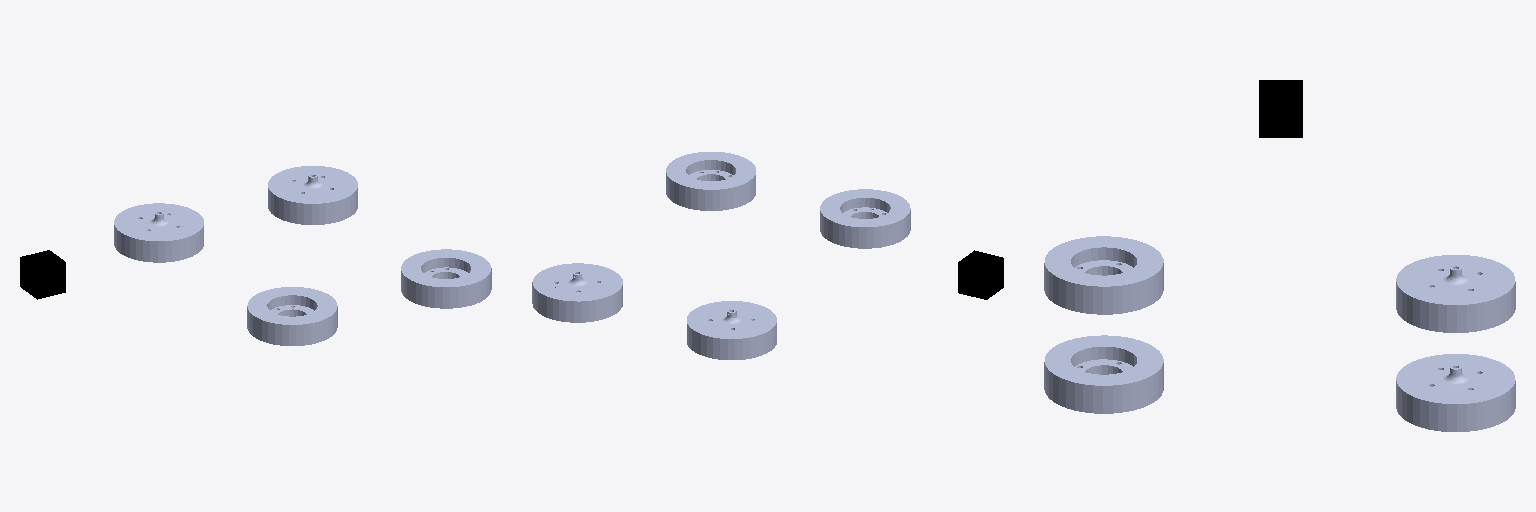
URDF robot description (fyp_robot):
<?xml version="1.0" encoding="utf-8"?>
<robot name="fyp_robot">

  <!-- Dummy root to avoid KDL "root link has inertia" warning -->
  <link name="base_footprint"/>

  <!-- +90° yaw: maps cmd_vel +X to robot's physical +Y (wheel axis is along X) -->
  <joint name="base_footprint_to_base_link" type="fixed">
    <parent link="base_footprint"/>
    <child link="base_link"/>
    <origin xyz="0 0 0" rpy="0 0 1.5708"/>
  </joint>

  <!-- ===================== -->
  <!-- CHASSIS (base_link)   -->
  <!-- ===================== -->
  <link name="base_link">
    <!-- IMPORTANT: Center COM close to the chassis center to prevent tipping -->
    <inertial>
      <origin xyz="0.0 0.0 0.10" rpy="0 0 0"/>
      <mass value="5.3118"/>
      <inertia ixx="0.10" ixy="0.0" ixz="0.0"
               iyy="0.10" iyz="0.0"
               izz="0.15"/>
    </inertial>

    <!-- Visual keeps your STL -->
    <visual>
      <origin xyz="0 0 0" rpy="0 0 0"/>
      <geometry>
        <mesh filename="package://fyp_description/meshes/base_link.STL"/>
      </geometry>
      <material name="base_gray">
        <color rgba="0.75294 0.75294 0.75294 1"/>
      </material>
    </visual>

    <!-- Collision uses a simple box (stable + fast) -->
    <collision>
      <!-- Adjust xyz/size to match your chassis dimensions -->
      <origin xyz="0 0 0.1475" rpy="0 0 0"/>
      <geometry>
        <box size="0.45 0.32 0.16"/>
      </geometry>
    </collision>
  </link>

  <!-- ===================== -->
  <!-- WHEELS (4)            -->
  <!-- ===================== -->

  <link name="Front_Left_Wheel">
    <inertial>
      <origin xyz="2.31233851510915E-11 -2.85785128575911E-07 0.0160218012444127" rpy="0 0 0"/>
      <mass value="0.407917904048073"/>
      <inertia ixx="0.000577300644358977" ixy="-5.22853787175703E-14" ixz="9.40890624968697E-14"
               iyy="0.000578042343322791" iyz="-1.60915152131612E-09" izz="0.00108187291864029"/>
    </inertial>

    <visual>
      <origin xyz="0 0 0" rpy="0 0 0"/>
      <geometry>
        <mesh filename="package://fyp_description/meshes/Front_Left_Wheel.STL"/>
      </geometry>
      <material name="wheel_blue">
        <color rgba="0.792156862745098 0.819607843137255 0.933333333333333 1"/>
      </material>
    </visual>

    <!-- Stable collision: cylinder (adjust radius/length to your wheel) -->
    <collision>
      <origin xyz="0 0 0.0675" rpy="0 0 0"/>
      <geometry>
        <cylinder radius="0.0675" length="0.03"/>
      </geometry>
    </collision>
  </link>

  <joint name="Front_Left_Wheel_Joint" type="continuous">
    <origin xyz="-0.090042 -0.013811 0.1272" rpy="1.5708 0 -1.5708"/>
    <parent link="base_link"/>
    <child link="Front_Left_Wheel"/>
    <axis xyz="0 0 1"/>
    <dynamics damping="0.2" friction="0.0"/>
  </joint>

  <link name="Front_Right_Wheel">
    <inertial>
      <origin xyz="2.31233313746637E-11 -2.85785128562033E-07 0.0160218012444127" rpy="0 0 0"/>
      <mass value="0.407917904048074"/>
      <inertia ixx="0.000577300644358978" ixy="-5.22854464802061E-14" ixz="9.40889297650489E-14"
               iyy="0.000578042343322792" iyz="-1.60915152131323E-09" izz="0.00108187291864029"/>
    </inertial>

    <visual>
      <origin xyz="0 0 0" rpy="0 0 0"/>
      <geometry>
        <mesh filename="package://fyp_description/meshes/Front_Right_Wheel.STL"/>
      </geometry>
      <material name="wheel_blue2">
        <color rgba="0.792156862745098 0.819607843137255 0.933333333333333 1"/>
      </material>
    </visual>

    <collision>
      <origin xyz="0 0 0.0675" rpy="0 0 0"/>
      <geometry>
        <cylinder radius="0.0675" length="0.03"/>
      </geometry>
    </collision>
  </link>

  <joint name="Front_Right_Wheel_Joint" type="continuous">
    <origin xyz="0.30771 -0.013811 0.1272" rpy="1.5708 0 1.5708"/>
    <parent link="base_link"/>
    <child link="Front_Right_Wheel"/>
    <axis xyz="0 0 -1"/>
    <dynamics damping="0.2" friction="0.0"/>
  </joint>

  <link name="Lower_Left_Wheel">
    <inertial>
      <origin xyz="2.31232255565317E-11 -2.85785128548155E-07 0.0160218012444127" rpy="0 0 0"/>
      <mass value="0.407917904048073"/>
      <inertia ixx="0.000577300644358977" ixy="-5.22854058226246E-14" ixz="9.40891041036782E-14"
               iyy="0.000578042343322791" iyz="-1.60915152103731E-09" izz="0.00108187291864029"/>
    </inertial>

    <visual>
      <origin xyz="0 0 0" rpy="0 0 0"/>
      <geometry>
        <mesh filename="package://fyp_description/meshes/Lower_Left_Wheel.STL"/>
      </geometry>
      <material name="wheel_blue3">
        <color rgba="0.792156862745098 0.819607843137255 0.933333333333333 1"/>
      </material>
    </visual>

    <collision>
      <origin xyz="0 0 0.0675" rpy="0 0 0"/>
      <geometry>
        <cylinder radius="0.0675" length="0.03"/>
      </geometry>
    </collision>
  </link>

  <joint name="Lower_Left_Wheel_Joint" type="continuous">
    <origin xyz="-0.090042 -0.27894 0.1272" rpy="1.5708 0 -1.5708"/>
    <parent link="base_link"/>
    <child link="Lower_Left_Wheel"/>
    <axis xyz="0 0 1"/>
    <dynamics damping="0.2" friction="0.0"/>
  </joint>

  <link name="Lower_Right_Wheel">
    <inertial>
      <origin xyz="2.3123E-11 -2.8579E-07 0.016022" rpy="0 0 0"/>
      <mass value="0.40792"/>
      <inertia ixx="0.0005773" ixy="-5.2285E-14" ixz="9.4089E-14"
               iyy="0.00057804" iyz="-1.6092E-09" izz="0.0010819"/>
    </inertial>

    <visual>
      <origin xyz="0 0 0" rpy="0 0 0"/>
      <geometry>
        <mesh filename="package://fyp_description/meshes/Lower_Right_Wheel.STL"/>
      </geometry>
      <material name="wheel_blue4">
        <color rgba="0.79216 0.81961 0.93333 1"/>
      </material>
    </visual>

    <collision>
      <origin xyz="0 0 0.0675" rpy="0 0 0"/>
      <geometry>
        <cylinder radius="0.0675" length="0.03"/>
      </geometry>
    </collision>
  </link>

  <joint name="Lower_Right_Wheel_Joint" type="continuous">
    <origin xyz="0.30771 -0.27894 0.1272" rpy="1.5708 0 1.5708"/>
    <parent link="base_link"/>
    <child link="Lower_Right_Wheel"/>
    <axis xyz="0 0 -1"/>
    <dynamics damping="0.2" friction="0.0"/>
  </joint>

  <!-- Wheel friction (helps stability / reduces slipping) -->
  <gazebo reference="Front_Left_Wheel">
    <mu1>1.2</mu1>
    <mu2>1.2</mu2>
  </gazebo>
  <gazebo reference="Front_Right_Wheel">
    <mu1>1.2</mu1>
    <mu2>1.2</mu2>
  </gazebo>
  <gazebo reference="Lower_Left_Wheel">
    <mu1>1.2</mu1>
    <mu2>1.2</mu2>
  </gazebo>
  <gazebo reference="Lower_Right_Wheel">
    <mu1>1.2</mu1>
    <mu2>1.2</mu2>
  </gazebo>

  <!-- ===================== -->
  <!-- ros2_control + Gazebo -->
  <!-- ===================== -->
  <ros2_control name="GazeboSimSystem" type="system">
    <hardware>
      <plugin>gz_ros2_control/GazeboSimSystem</plugin>
    </hardware>

    <joint name="Front_Left_Wheel_Joint">
      <command_interface name="velocity"/>
      <state_interface name="position"/>
      <state_interface name="velocity"/>
    </joint>
    <joint name="Lower_Left_Wheel_Joint">
      <command_interface name="velocity"/>
      <state_interface name="position"/>
      <state_interface name="velocity"/>
    </joint>
    <joint name="Front_Right_Wheel_Joint">
      <command_interface name="velocity"/>
      <state_interface name="position"/>
      <state_interface name="velocity"/>
    </joint>
    <joint name="Lower_Right_Wheel_Joint">
      <command_interface name="velocity"/>
      <state_interface name="position"/>
      <state_interface name="velocity"/>
    </joint>
  </ros2_control>

  <gazebo>
    <plugin filename="gz_ros2_control-system" name="gz_ros2_control::GazeboSimROS2ControlPlugin">
      <robot_param>robot_description</robot_param>
      <robot_param_node>robot_state_publisher</robot_param_node>
      <parameters>/home/muhammad/fyp_ws/install/fyp_bringup/share/fyp_bringup/config/controllers.yaml</parameters>
    </plugin>
  </gazebo>



  <!-- ===================== -->
  <!-- DEPTH CAMERA          -->
  <!-- ===================== -->
  <link name="camera_link">
    <visual>
      <origin xyz="0 0 0" rpy="0 0 0"/>
      <geometry>
        <box size="0.05 0.05 0.05"/>
      </geometry>
      <material name="black">
        <color rgba="0 0 0 1"/>
      </material>
    </visual>
    <collision>
      <origin xyz="0 0 0" rpy="0 0 0"/>
      <geometry>
        <box size="0.05 0.05 0.05"/>
      </geometry>
    </collision>
    <inertial>
      <mass value="0.1"/>
      <origin xyz="0 0 0" rpy="0 0 0"/>
      <inertia ixx="0.00004" ixy="0" ixz="0" iyy="0.00004" iyz="0" izz="0.00004"/>
    </inertial>
  </link>

  <!-- Camera at front of robot, looking along base_link +Y (physical forward) -->
  <!-- yaw +90° makes camera_link +X point along base_link +Y (forward) -->
  <joint name="camera_joint" type="fixed">
    <parent link="base_link"/>
    <child link="camera_link"/>
    <origin xyz="0.11 0.30 0.20" rpy="0 0 1.5708"/>
  </joint>

  <!-- Scan frame: same position as camera, but aligned with base_footprint -->
  <!-- Used for laser scan output so obstacles project correctly -->
  <link name="scan_frame"/>
  <joint name="scan_frame_joint" type="fixed">
    <parent link="base_footprint"/>
    <child link="scan_frame"/>
    <origin xyz="0.30 0.11 0.20" rpy="0 0 0"/>
  </joint>

  <!-- Optical frame: Z forward, X right, Y down (standard ROS convention) -->
 <link name="camera_depth_optical_frame"/>

<joint name="camera_depth_optical_joint" type="fixed">
  <parent link="camera_link"/>
  <child link="camera_depth_optical_frame"/>
  <!-- optical frame: Z forward, X right, Y down -->
  <origin xyz="0 0 0" rpy="-1.5708 0 1.5708"/>
</joint>


  <!-- IMU link for real robot IMU mounting -->
  <link name="imu_link"/>

  <joint name="imu_joint" type="fixed">
    <parent link="base_link"/>
    <child link="imu_link"/>
    <!-- Adjust this to match your actual IMU mounting position -->
    <origin xyz="0.1 0 0.15" rpy="0 0 0"/>
  </joint>

  <!-- Gazebo depth camera sensor -->
  <gazebo reference="camera_link">
    <sensor name="depth_camera" type="depth_camera">
      <always_on>true</always_on>
      <update_rate>20</update_rate>
      <camera>
        <horizontal_fov>1.396</horizontal_fov>
        <image>
          <width>640</width>
          <height>480</height>
          <format>R_FLOAT32</format>
        </image>
        <clip>
          <near>0.1</near>
          <far>10.0</far>
        </clip>
        <noise>
          <type>gaussian</type>
          <mean>0.0</mean>
          <stddev>0.01</stddev>
        </noise>
      </camera>
      <topic>camera/depth</topic>
      <gz_frame_id>camera_link</gz_frame_id>
    </sensor>
  </gazebo>

  <!-- IMU sensor for odometry fusion -->
  <gazebo reference="base_link">
    <sensor name="imu_sensor" type="imu">
      <always_on>true</always_on>
      <update_rate>100</update_rate>
      <topic>imu</topic>
      <gz_frame_id>base_link</gz_frame_id>
      <imu>
        <angular_velocity>
          <x><noise type="gaussian"><mean>0.0</mean><stddev>0.0001</stddev></noise></x>
          <y><noise type="gaussian"><mean>0.0</mean><stddev>0.0001</stddev></noise></y>
          <z><noise type="gaussian"><mean>0.0</mean><stddev>0.0001</stddev></noise></z>
        </angular_velocity>
        <linear_acceleration>
          <x><noise type="gaussian"><mean>0.0</mean><stddev>0.001</stddev></noise></x>
          <y><noise type="gaussian"><mean>0.0</mean><stddev>0.001</stddev></noise></y>
          <z><noise type="gaussian"><mean>0.0</mean><stddev>0.001</stddev></noise></z>
        </linear_acceleration>
      </imu>
    </sensor>
  </gazebo>

</robot>

--- Render facts (derived) ---
Views: 3 orthographic renders of the robot side by side, from view 1: azimuth 30°, elevation 25°; view 2: azimuth 150°, elevation 25°; view 3: azimuth 270°, elevation 25°.
Robot: fyp_robot — 10 links, 9 joints (4 continuous, 5 fixed); root link base_footprint; default pose: all joints at 0.
Links seen in each view (by area): view 1: Lower_Left_Wheel, Front_Left_Wheel, Front_Right_Wheel, Lower_Right_Wheel, camera_link; view 2: Front_Left_Wheel, Lower_Right_Wheel, Front_Right_Wheel, Lower_Left_Wheel, camera_link; view 3: Front_Left_Wheel, Lower_Left_Wheel, Lower_Right_Wheel, Front_Right_Wheel, camera_link.
Link boxes in pixels (box(x1,y1,x2,y2)): Lower_Left_Wheel: box(401, 249, 491, 308); Front_Left_Wheel: box(247, 287, 337, 345); Front_Right_Wheel: box(114, 203, 203, 262); Lower_Right_Wheel: box(268, 166, 357, 224); camera_link: box(20, 250, 65, 299); Front_Left_Wheel: box(820, 189, 910, 248); Lower_Right_Wheel: box(532, 263, 622, 322); Front_Right_Wheel: box(687, 301, 776, 359); Lower_Left_Wheel: box(666, 152, 755, 210); camera_link: box(958, 250, 1003, 299); Front_Left_Wheel: box(1044, 236, 1163, 314); Lower_Left_Wheel: box(1044, 335, 1163, 413); Lower_Right_Wheel: box(1396, 354, 1515, 431); Front_Right_Wheel: box(1396, 255, 1515, 332); camera_link: box(1259, 80, 1302, 137).
Bounding box of the posed robot: 0.6714 × 0.5325 × 0.1268 m (x, y, z).
4 mesh visuals loaded from 5 distinct referenced files (4 binary STL); not drawn: 1 (reference not matched to a file when rendering).
